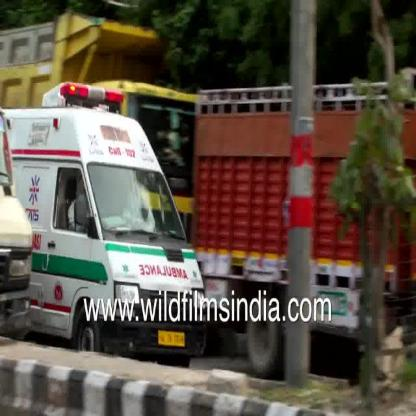priority: (11, 78, 206, 296)
